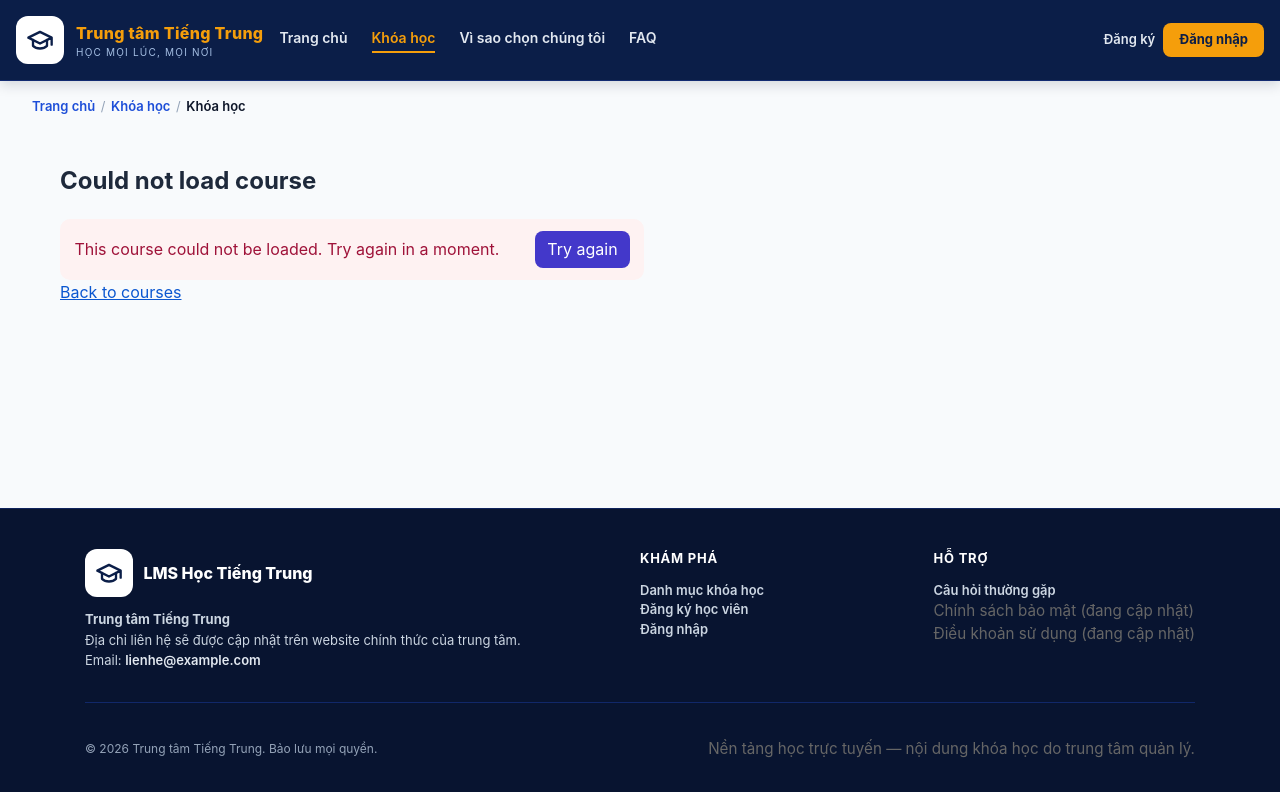
Scenario: course detail page › retries a failed course load without exposing server text
What coordinates should you click on to do the following:
click the button "Try again"
I would click on:
 (582, 250)
Its box is 535,231 -> 630,268.
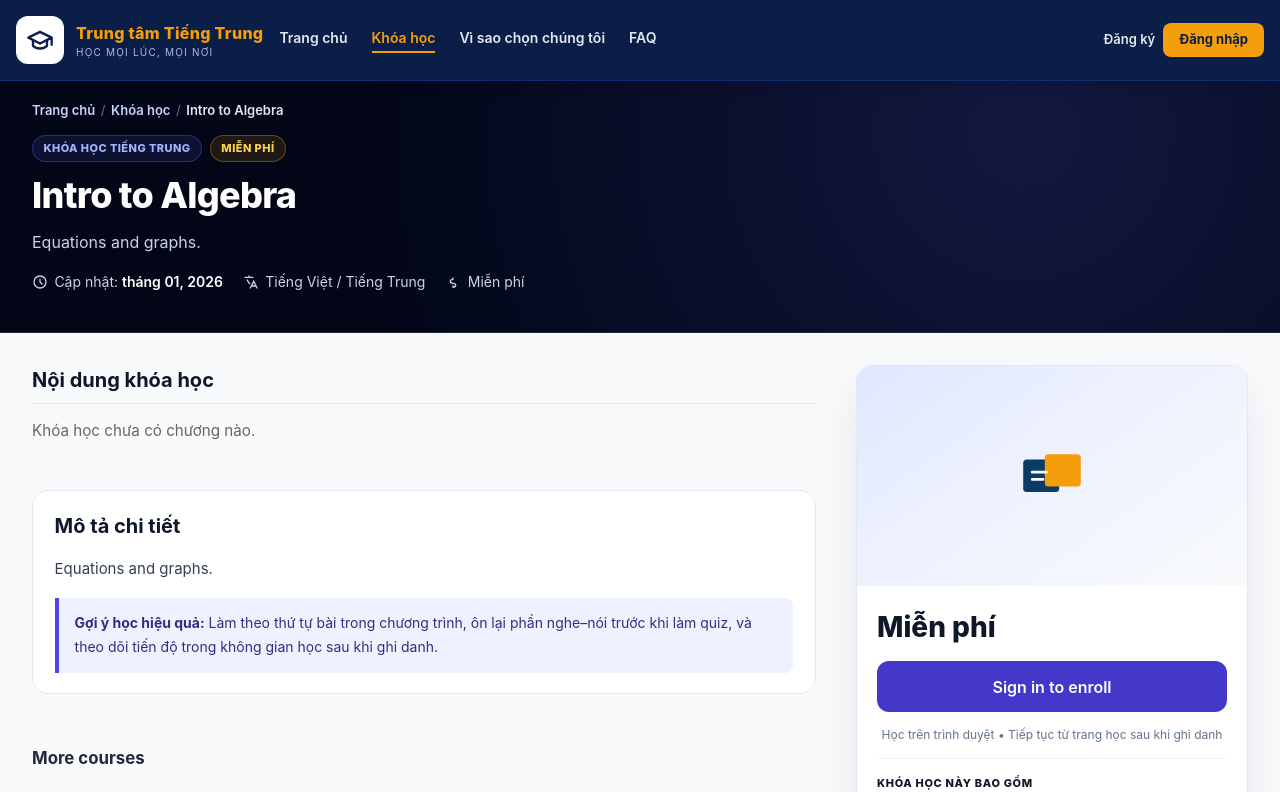
Check: the heading "Intro to Algebra" is shown, box 32,173 -> 296,217
